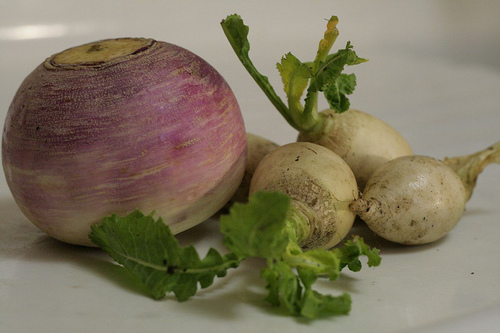turnip: (0, 36, 248, 251), (221, 11, 415, 191), (246, 139, 361, 325), (347, 140, 499, 246)
